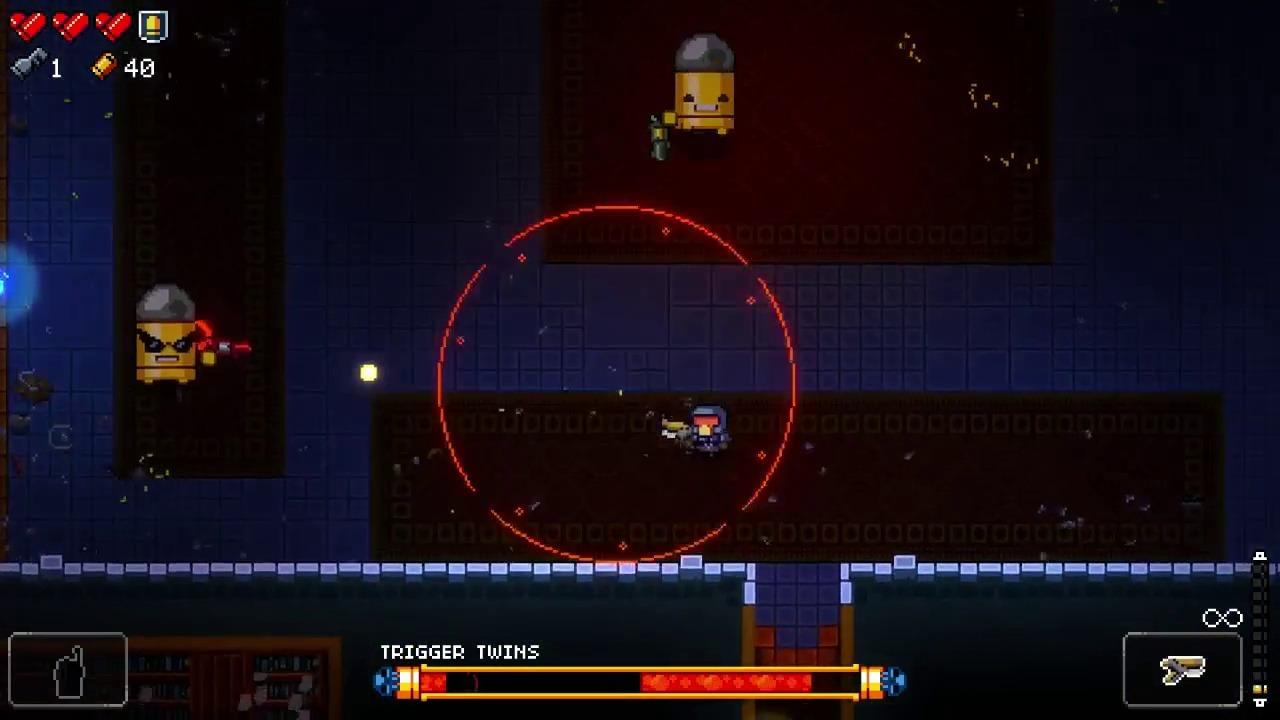boss_shades: (136, 281, 198, 386)
boss_smiley: (674, 32, 734, 136)
player: (690, 407, 732, 460)
